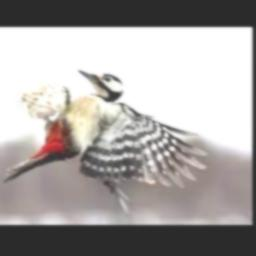Woodpecker: (2, 70, 208, 212)
